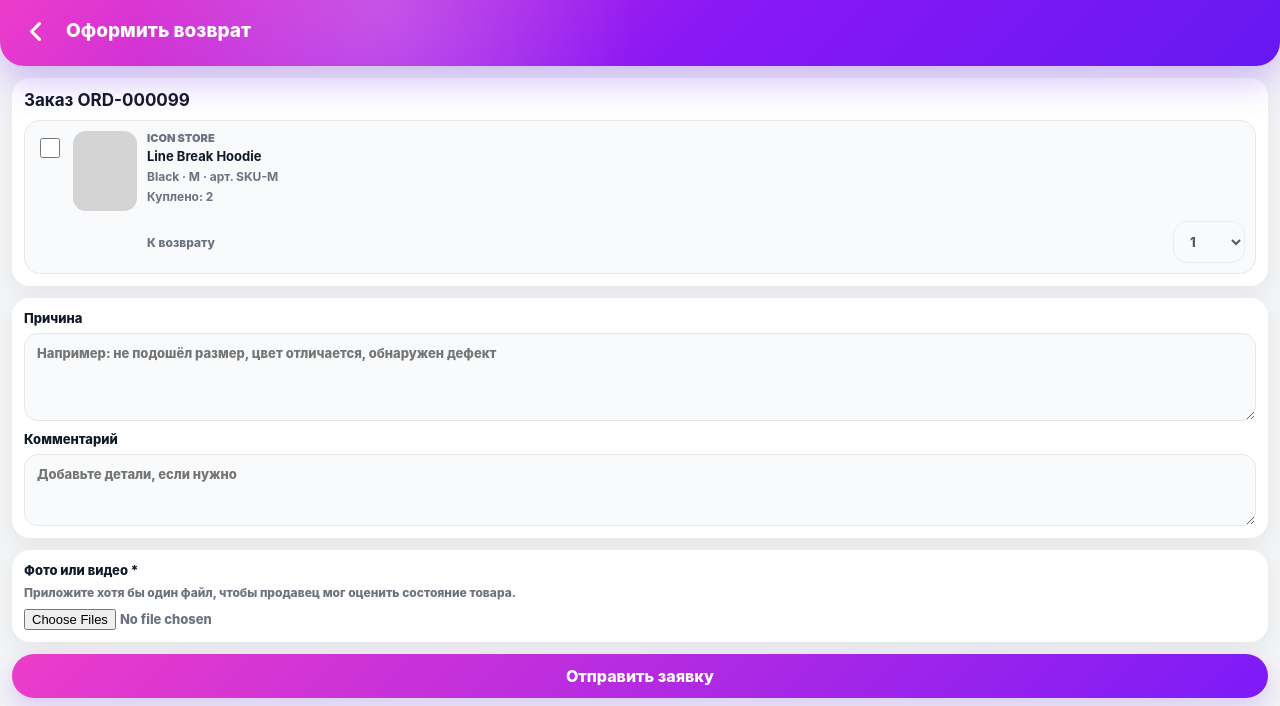
ReturnRequestPage › marks media as required and blocks submit without a photo or video
Check: the text "Line Break Hoodie" is shown, box [147,148,262,164]
Check: the text "Фото или видео *" is shown, box [24,562,138,578]
Click the label named "Выбрать товар" at (50, 148), box [40,138,60,158]
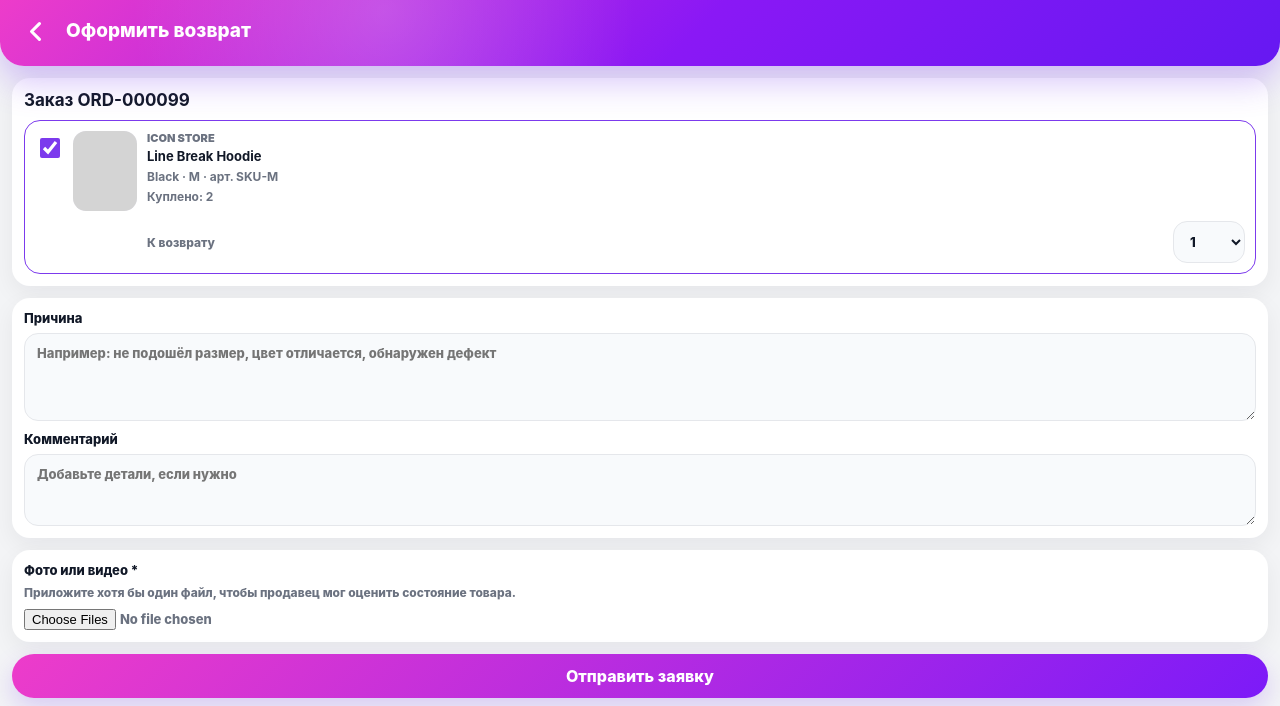
Replace the text in the text box with placeholder "Например: не подошёл размер, цвет отличается, обнаружен дефект" with "Не подошёл размер" at (640, 377), box [24,333,1256,421]
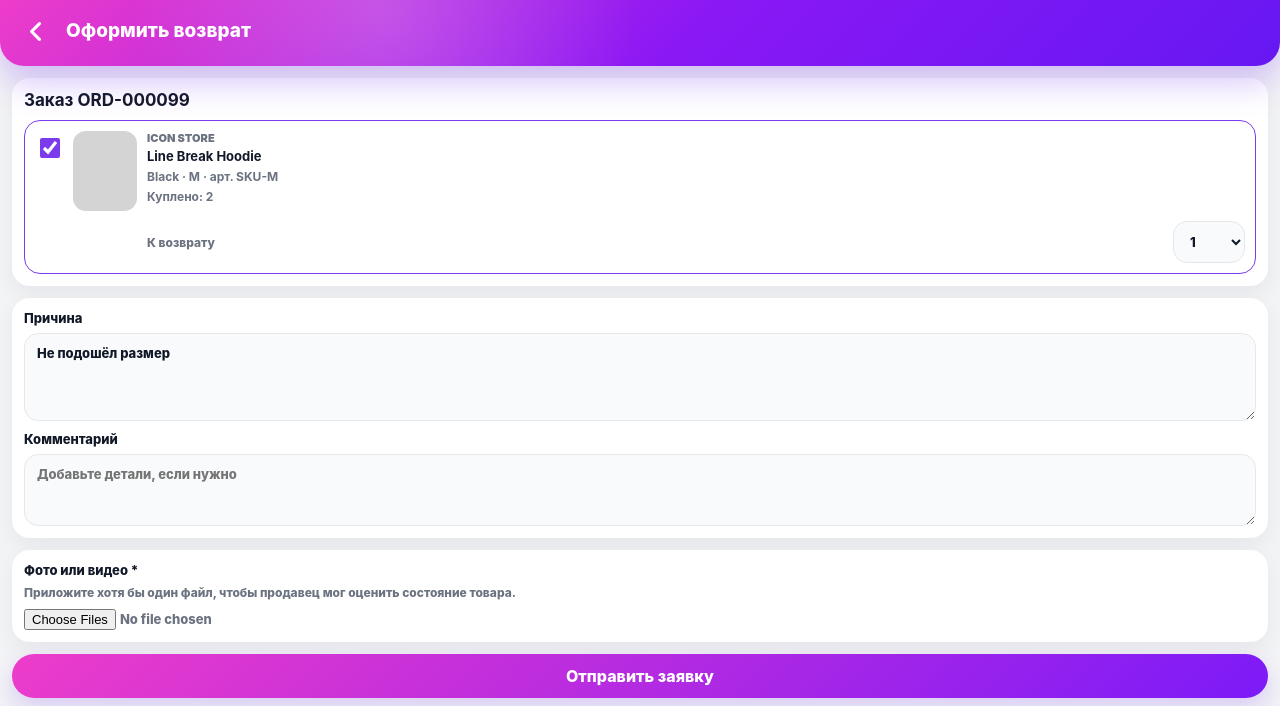
Click the button "Отправить заявку" at (640, 676), box [12,654,1268,698]
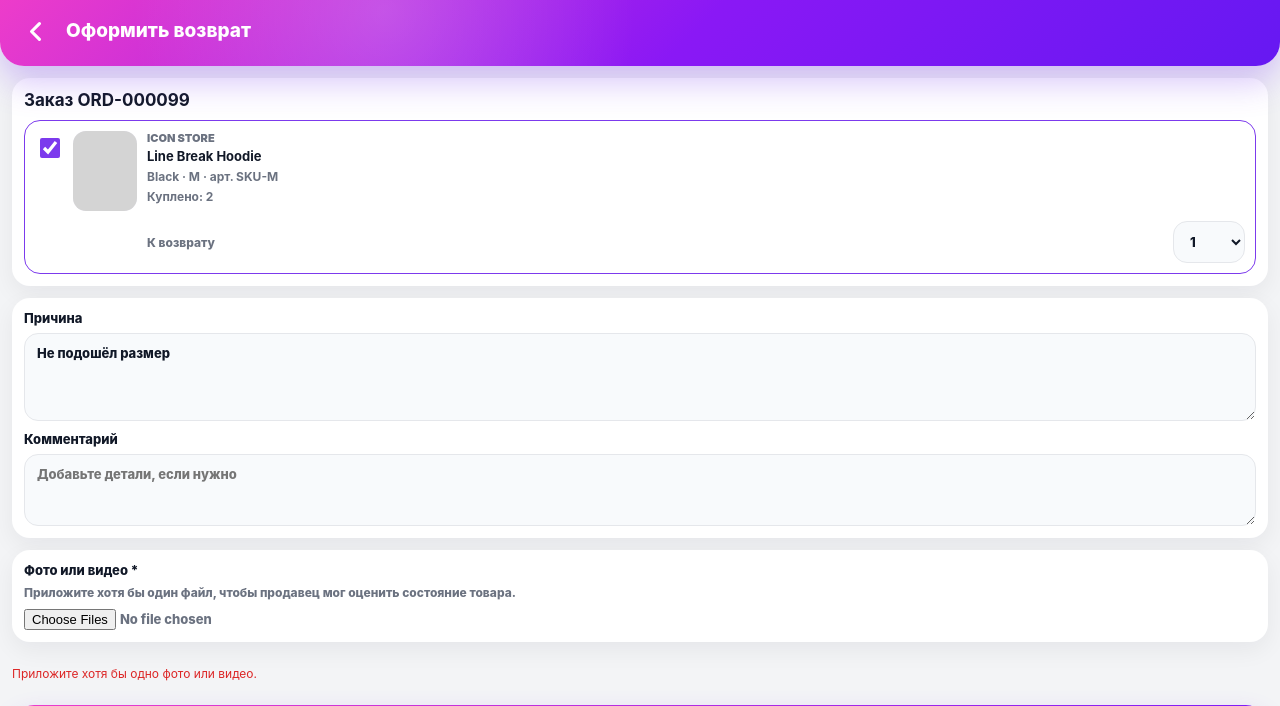
Check: the text "Приложите хотя бы одно фото или видео." is shown, box [12,666,257,681]
